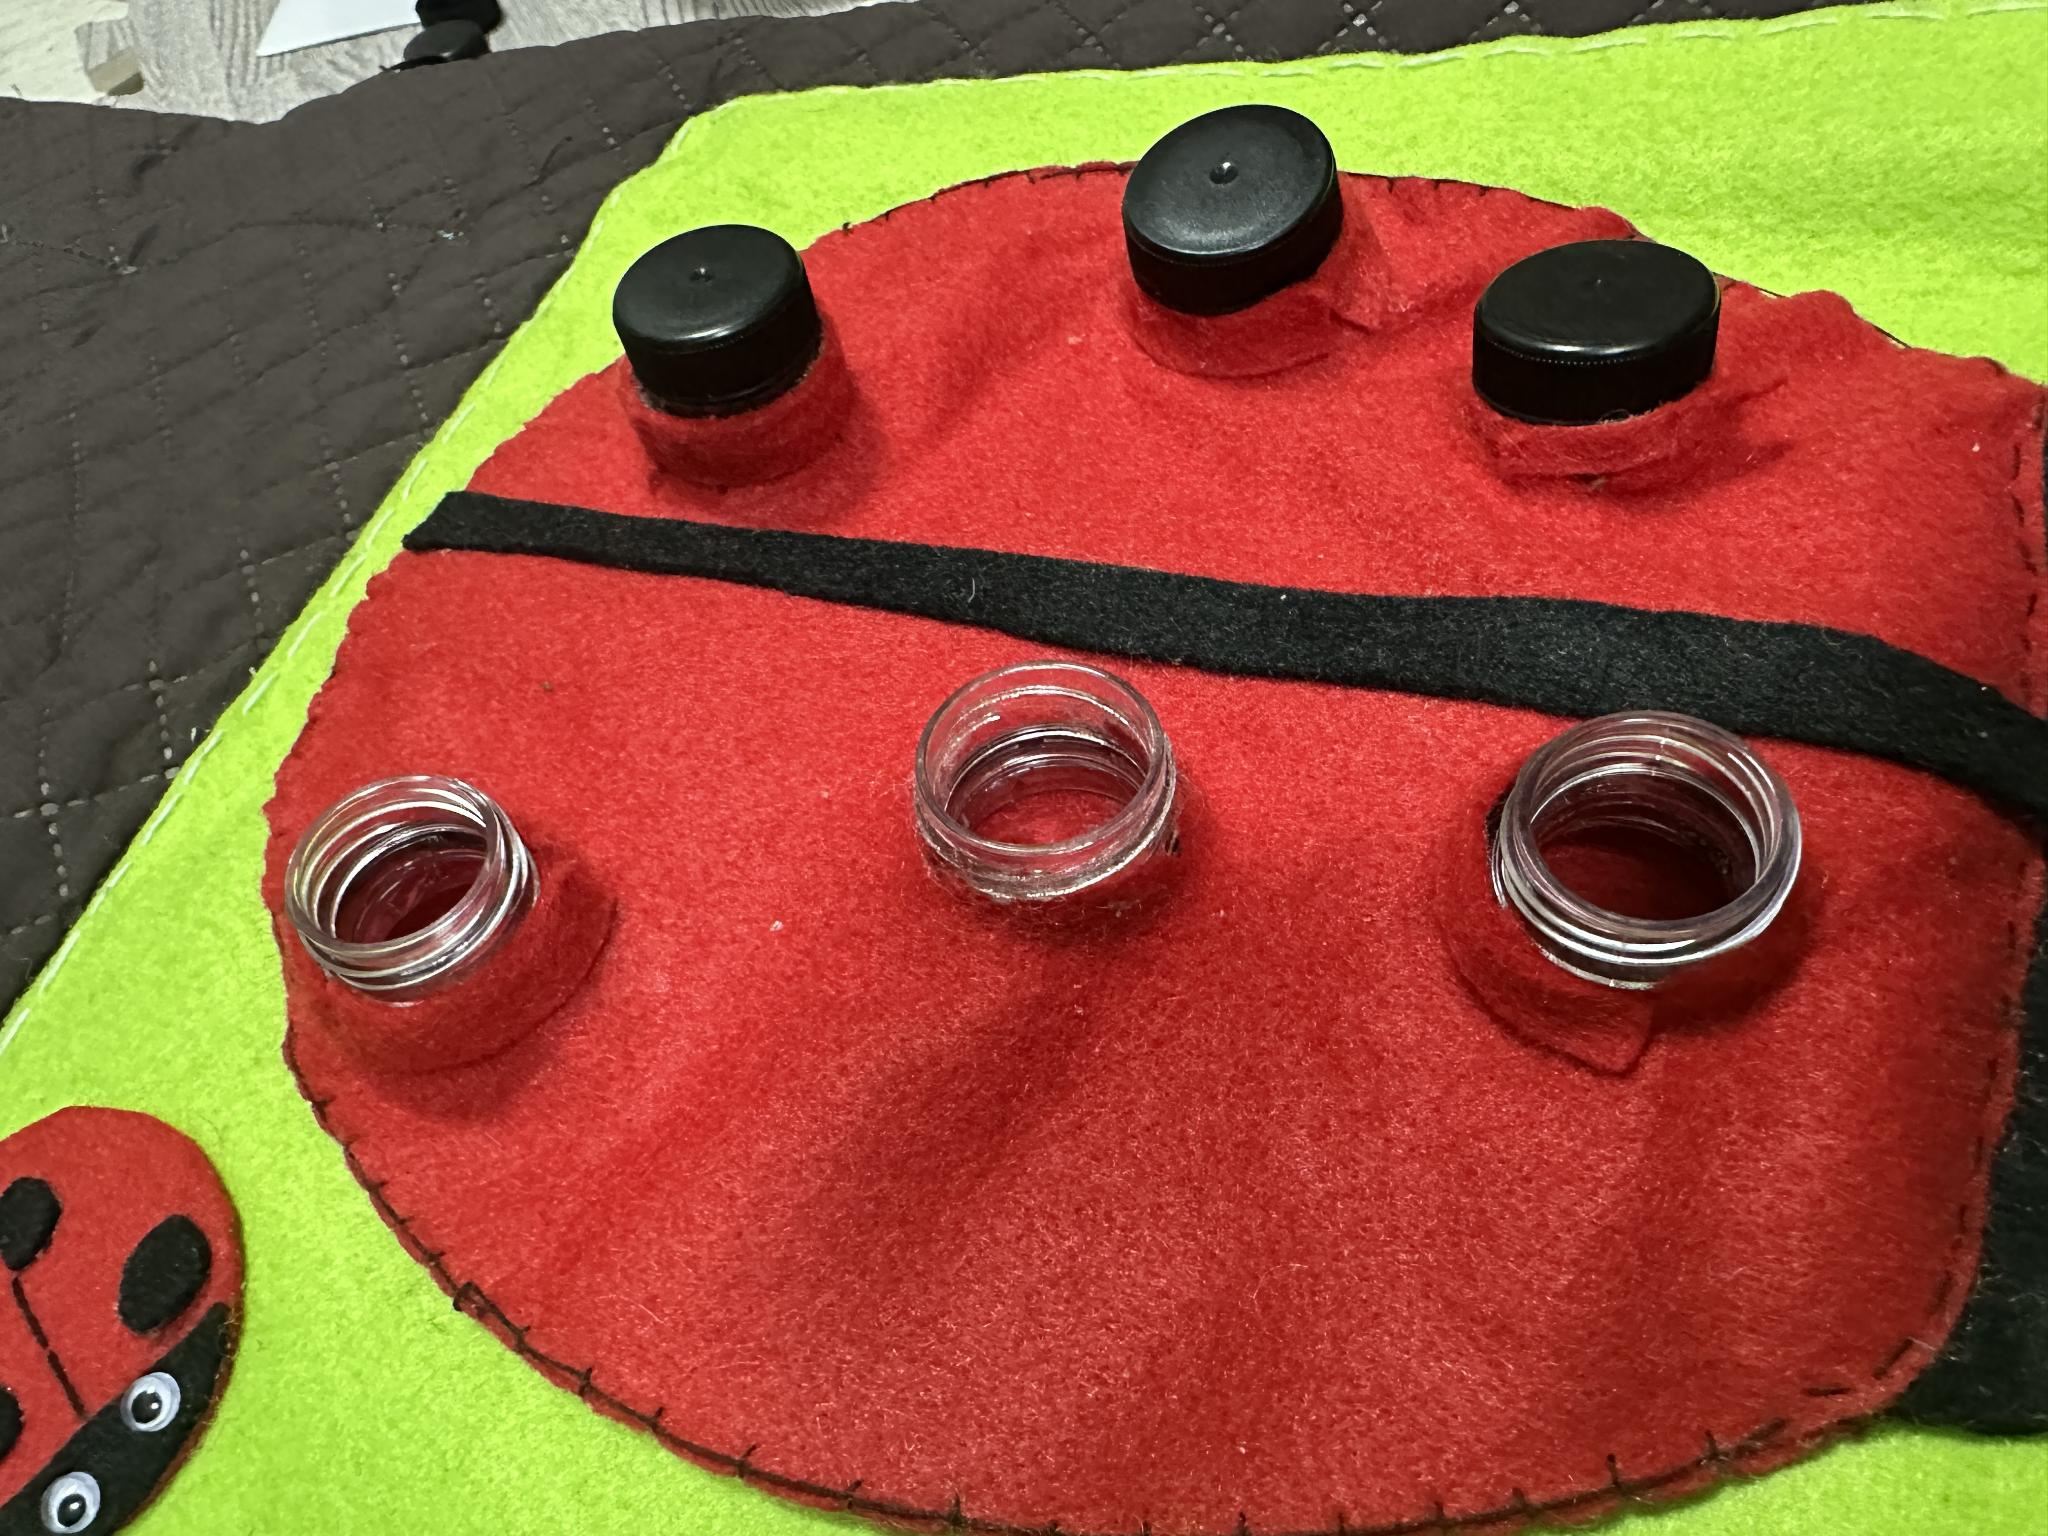cap_ok: (561, 195, 874, 486), (1082, 92, 1390, 381), (1451, 203, 1769, 481)
